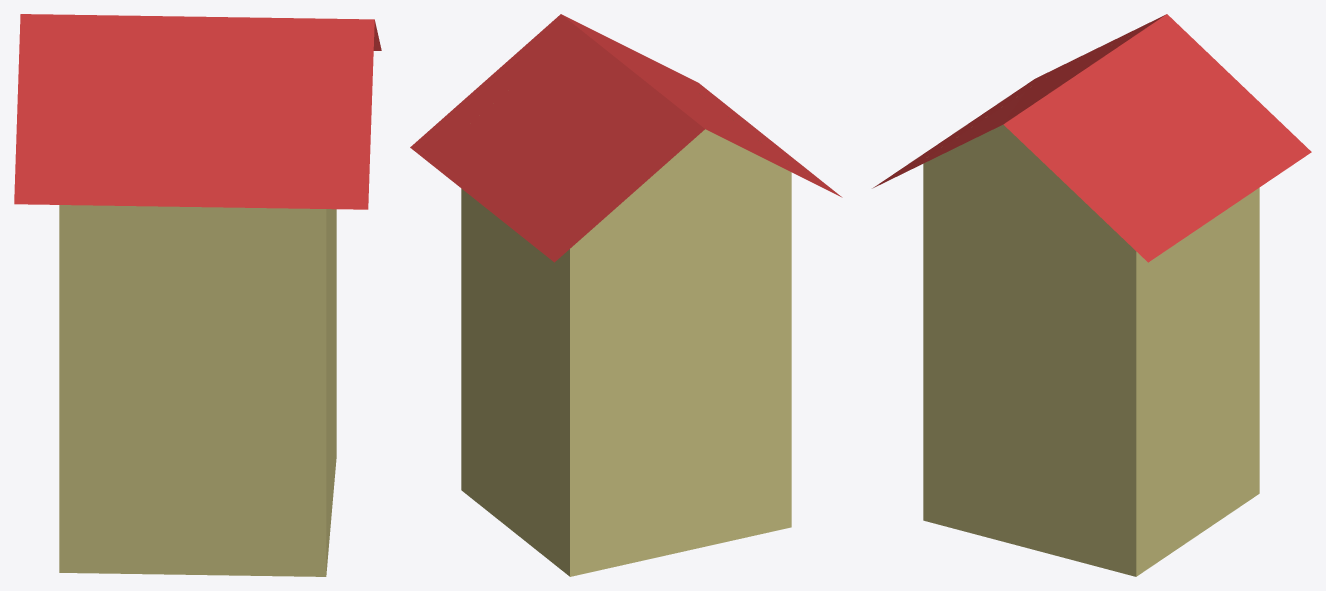
3 renders of one model, left to right at view 1: azimuth 30°, elevation 25°; view 2: azimuth 150°, elevation 25°; view 3: azimuth 270°, elevation 25°, orthographic. The views are drawn at different scales.
Parts seen in each view (by area): view 1: group_5, group_3, group_4; view 2: group_5, group_3, group_4; view 3: group_5, group_3, group_4.
Part boxes in pixels (x1,y1,x2,y2): group_5: (59, 205, 336, 576); group_3: (14, 14, 381, 209); group_4: (14, 14, 377, 209); group_5: (461, 129, 791, 576); group_3: (410, 14, 790, 262); group_4: (410, 14, 842, 197); group_5: (923, 28, 1259, 576); group_3: (924, 14, 1311, 262); group_4: (872, 14, 1191, 262).
Size of the model in its own units: 5.73 by 5.81 by 6.34.
